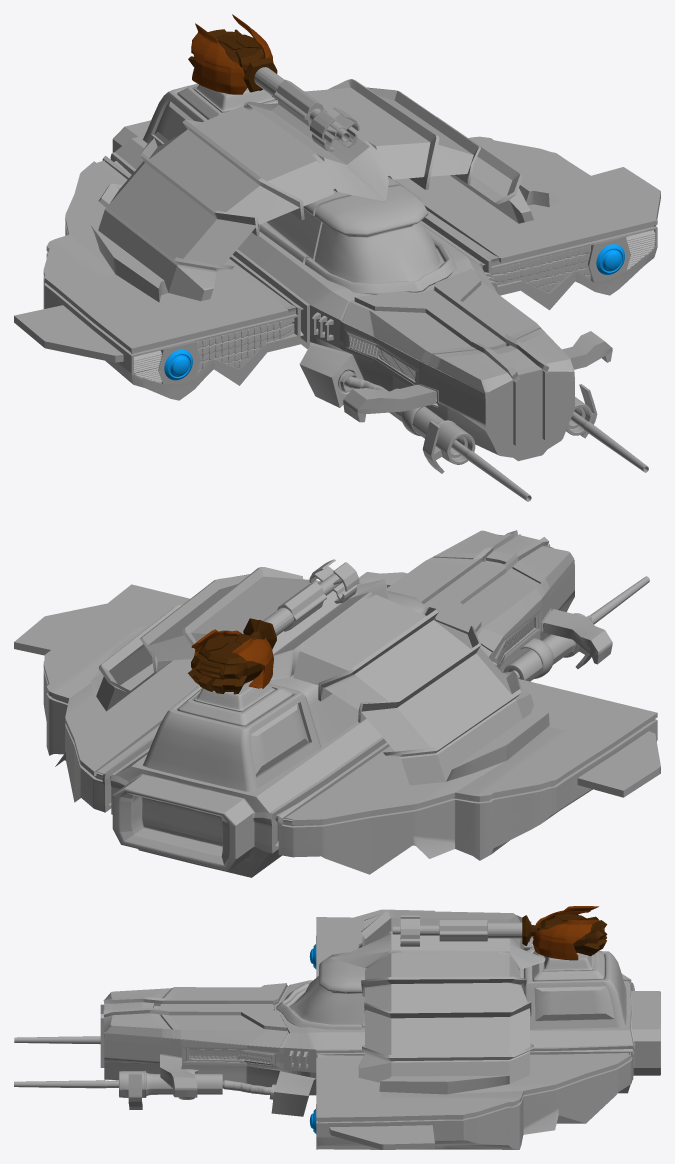
File: Nave.fbx
3 views of the same model, one above another, from view 1: azimuth 30°, elevation 25°; view 2: azimuth 150°, elevation 25°; view 3: azimuth 270°, elevation 25° (orthographic). The views are drawn at different scales.
Parts seen in each view (by area): view 1: Carcasa, Visor, pCylinder4, Arma3, pSphere5, Rejillas1, Rejillas, pSphere6, Arma2, polySurface3, Paneles1, pSphere12 (+2 smaller); view 2: Carcasa, Visor, pSphere6, pCylinder4, Arma3, pSphere5, polySurface3, Soporte; view 3: Carcasa, Visor, Arma2, pCylinder4, pSphere5, pSphere6, RendIjas_motor, Arma3, sweep1.
Boxes of the visible parts, <box> form: Carcasa: <box>14,79,660,461</box>; Visor: <box>143,83,457,294</box>; pCylinder4: <box>254,67,359,151</box>; Arma3: <box>389,388,531,501</box>; pSphere5: <box>192,14,273,94</box>; Rejillas1: <box>491,245,590,292</box>; Rejillas: <box>196,318,294,375</box>; pSphere6: <box>188,29,277,92</box>; Arma2: <box>566,384,648,472</box>; polySurface3: <box>346,332,417,384</box>; Paneles1: <box>626,230,655,269</box>; pSphere12: <box>164,349,192,380</box>; Carcasa: <box>14,530,660,877</box>; Visor: <box>143,591,427,792</box>; pSphere6: <box>188,618,276,694</box>; pCylinder4: <box>263,559,359,635</box>; Arma3: <box>503,576,649,681</box>; pSphere5: <box>191,629,273,688</box>; polySurface3: <box>495,614,538,667</box>; Soporte: <box>520,638,553,678</box>; Carcasa: <box>100,909,660,1149</box>; Visor: <box>275,949,626,1029</box>; Arma2: <box>14,1070,222,1109</box>; pCylinder4: <box>392,915,522,946</box>; pSphere5: <box>532,906,599,960</box>; pSphere6: <box>522,913,607,956</box>; RendIjas_motor: <box>186,1048,275,1065</box>; Arma3: <box>14,1036,100,1044</box>; sweep1: <box>222,1080,271,1094</box>.
Size of the model in its own units: 6.6 by 2.23 by 7.68.
